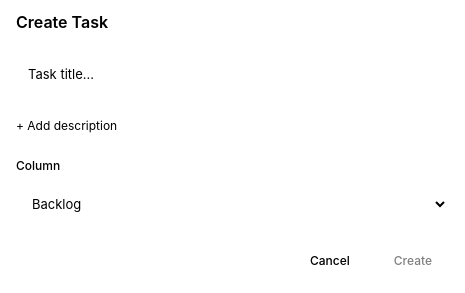
Scenario: QuickCreate › validation › enables create button when title has content
Type "Valid title" into the field with placeholder "Task title..." at (232, 74), box [16,54,448,94]
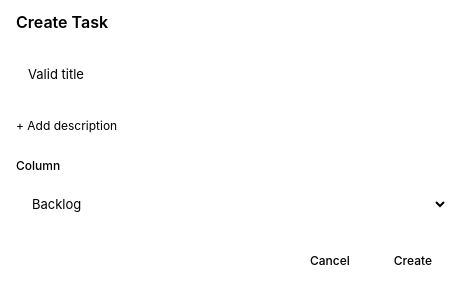
Now the button "Create" is enabled, box [378,245,448,276]
